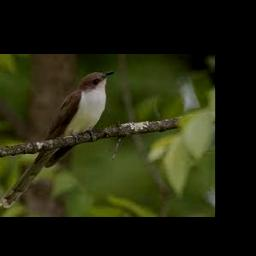Cuckoo: (0, 71, 116, 208)
